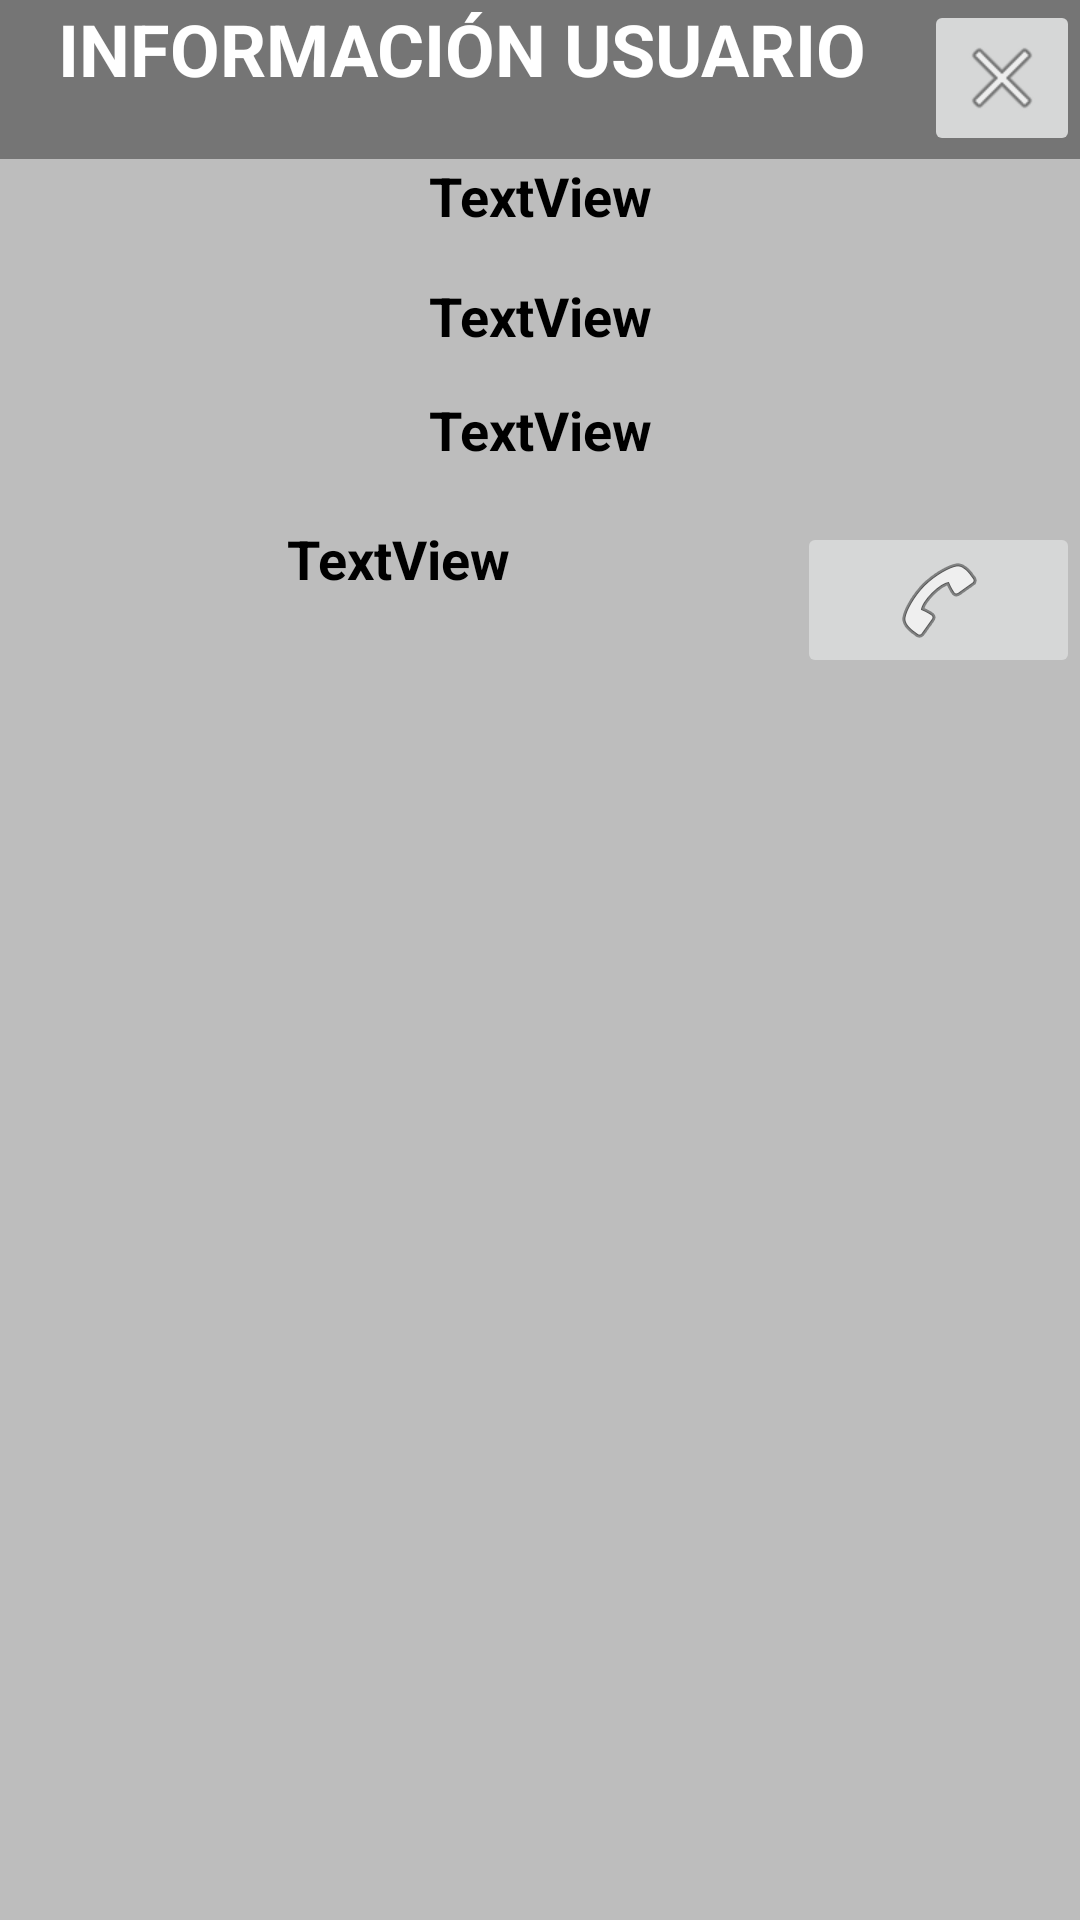

Screen size 1080px x 1920px. Icon name, then its center in pixels as [x,y]:
call: [938,600]
close clear cancel: [1002,78]
